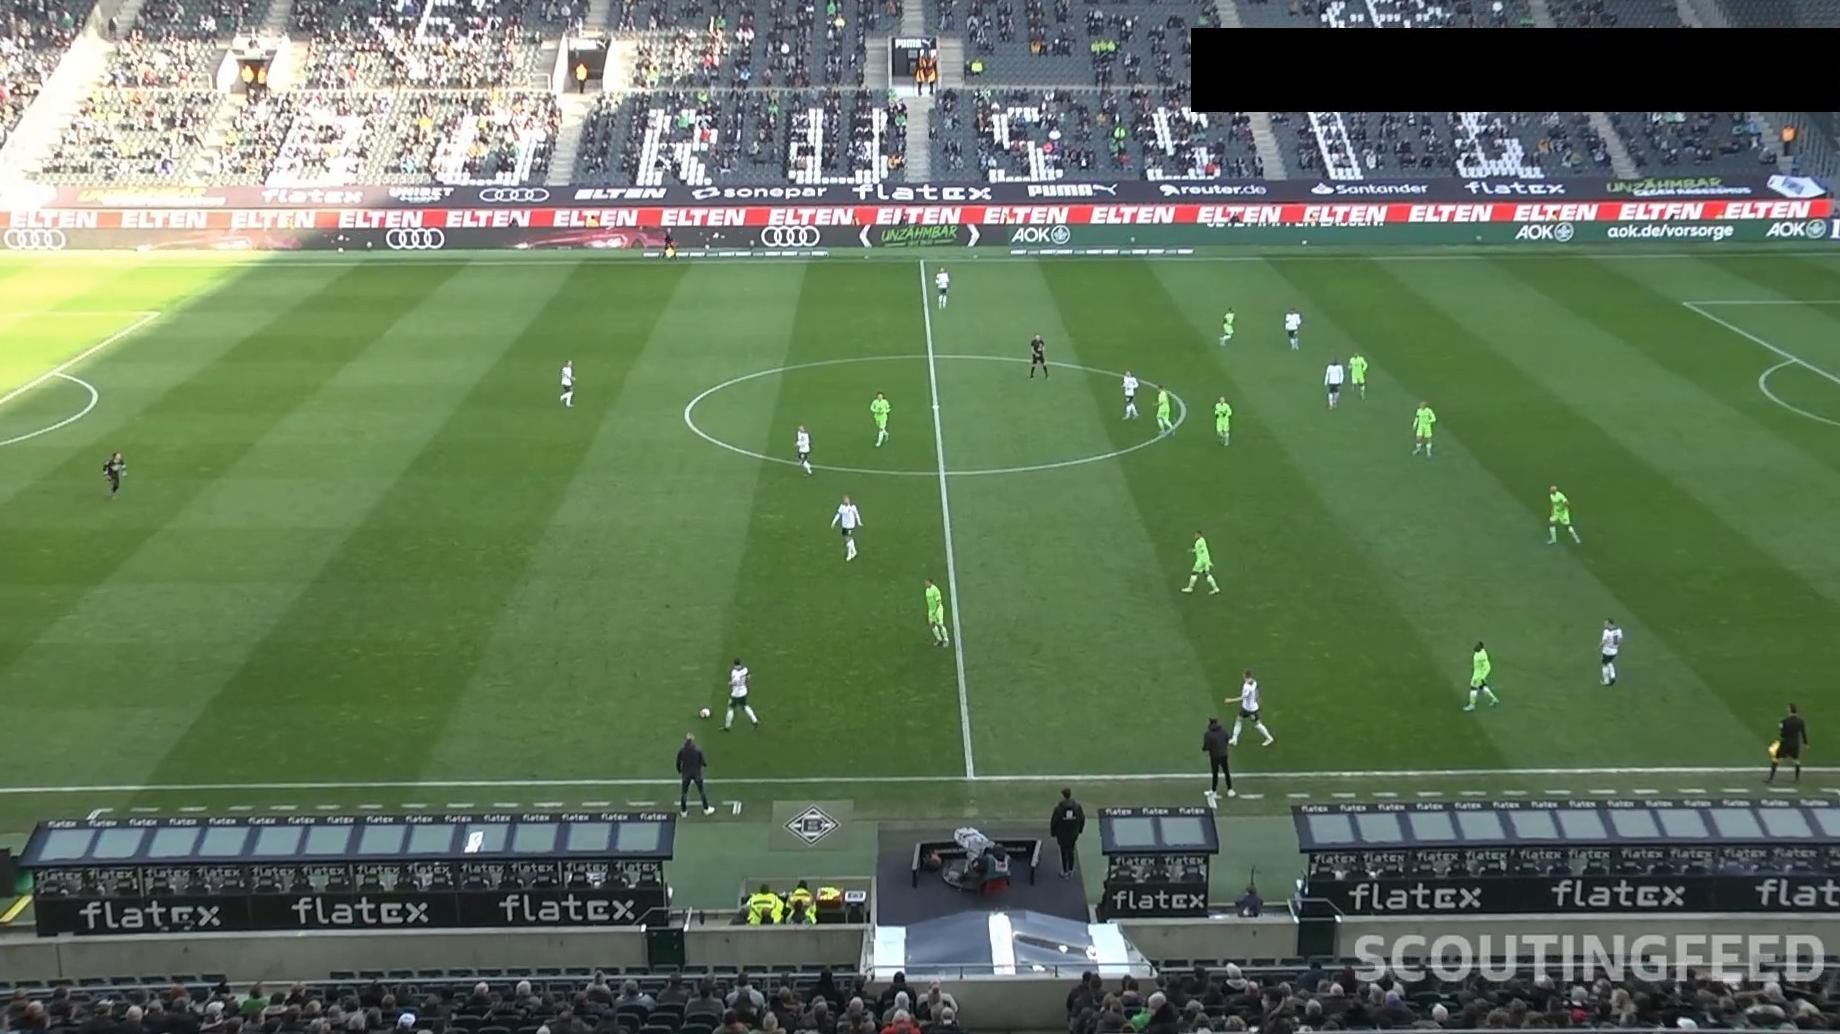ball: (698, 707, 711, 721)
